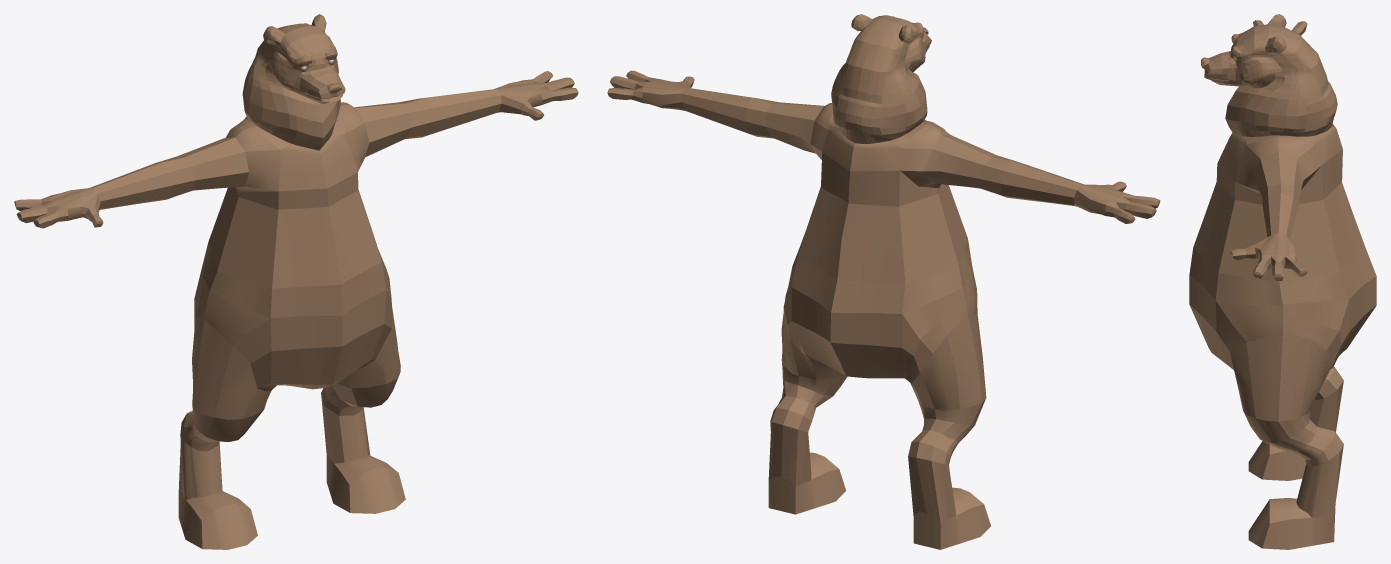
File: Bear_UVd 1.fbx
3 views of the same model, side by side, from view 1: azimuth 30°, elevation 25°; view 2: azimuth 150°, elevation 25°; view 3: azimuth 270°, elevation 25° (orthographic). The views are drawn at different scales.
Visible parts, largest first — view 1: pCube5; view 2: pCube5; view 3: pCube5.
Boxes of the visible parts, x1,y1,x2,y2 form: pCube5: (14, 14, 578, 549); pCube5: (607, 14, 1160, 549); pCube5: (1189, 14, 1376, 549).
Bounding box in the file's own units: 5.84 × 5.02 × 1.79.
